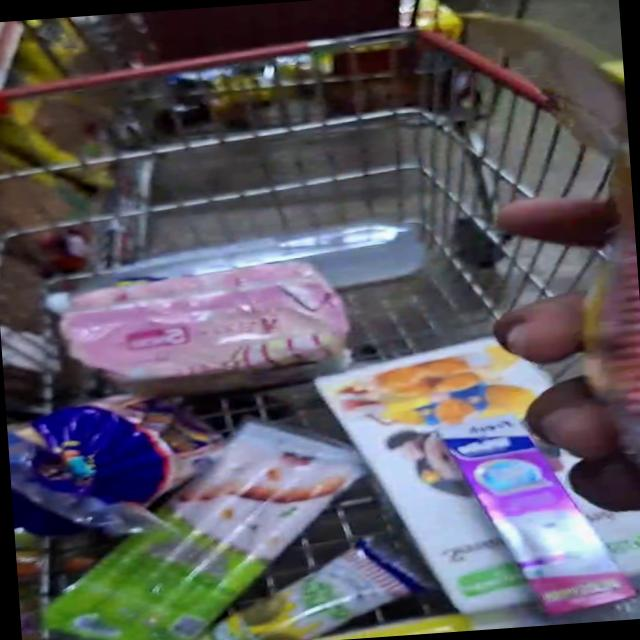Roti: (217, 551, 388, 640)
Tisu: (284, 328, 540, 430), (356, 422, 472, 518), (428, 503, 520, 618)
Ubat Gigi: (483, 471, 602, 622), (432, 412, 531, 494)
